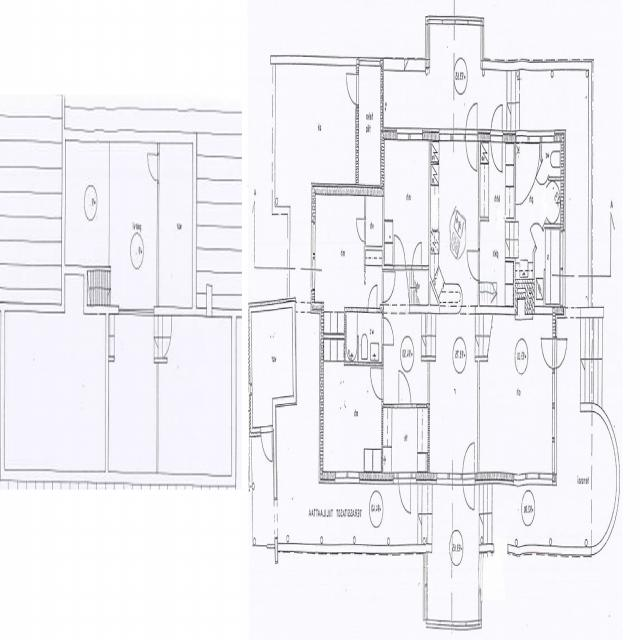door: (529, 211, 544, 248), (491, 98, 502, 142), (491, 128, 502, 172), (466, 98, 477, 142), (466, 128, 477, 172), (344, 74, 359, 105), (552, 339, 568, 368), (399, 471, 410, 513), (463, 471, 474, 513), (463, 442, 474, 484), (370, 368, 384, 401), (261, 426, 272, 467), (541, 339, 557, 367), (399, 371, 411, 408), (536, 159, 549, 193), (382, 272, 396, 301), (394, 236, 406, 269), (467, 251, 480, 281), (382, 318, 394, 344), (147, 154, 159, 180), (355, 218, 366, 242), (368, 284, 377, 313), (413, 243, 421, 269)
